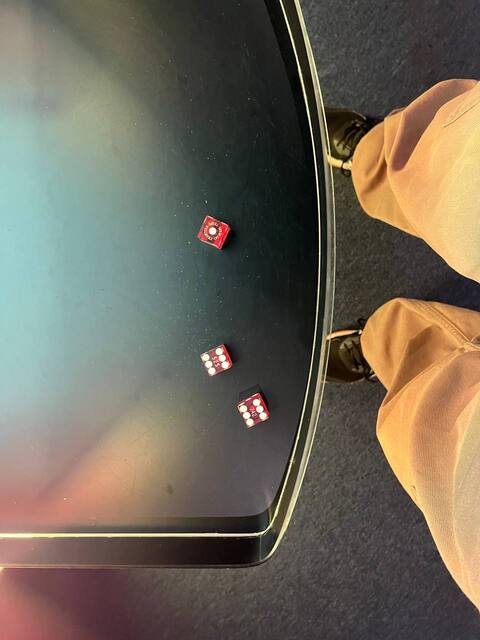one: (196, 213, 231, 250)
six: (233, 390, 274, 429), (198, 342, 235, 379)
